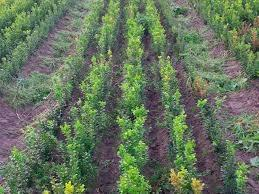field: (0, 0, 258, 192), (195, 1, 258, 51)
road: (0, 1, 90, 167)
